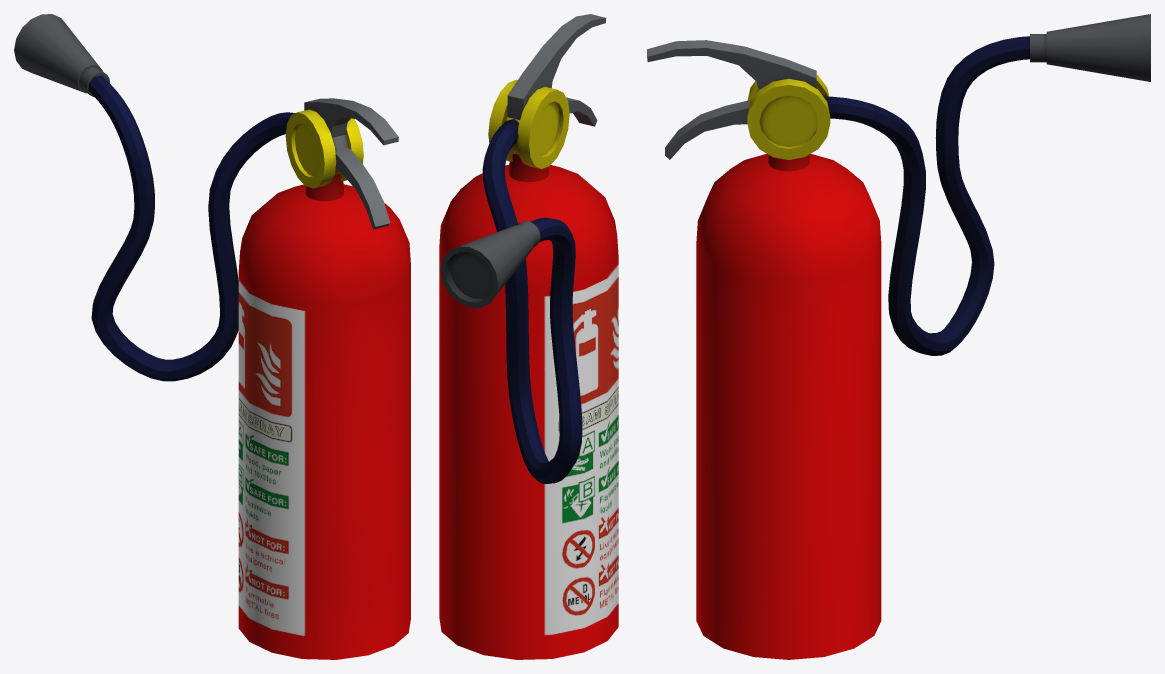
File: Fire_Extinguisher.FBX
3 views of the same model, side by side, from view 1: azimuth 30°, elevation 25°; view 2: azimuth 150°, elevation 25°; view 3: azimuth 270°, elevation 25° (orthographic). The views are drawn at different scales.
Parts seen in each view (by area): view 1: Fire_Extinguisher; view 2: Fire_Extinguisher; view 3: Fire_Extinguisher.
Boxes of the visible parts, x1,y1,x2,y2 form: Fire_Extinguisher: (14, 14, 410, 659); Fire_Extinguisher: (439, 14, 618, 659); Fire_Extinguisher: (647, 14, 1150, 659).
Size of the model in its own units: 28.67 by 68.78 by 54.45.
